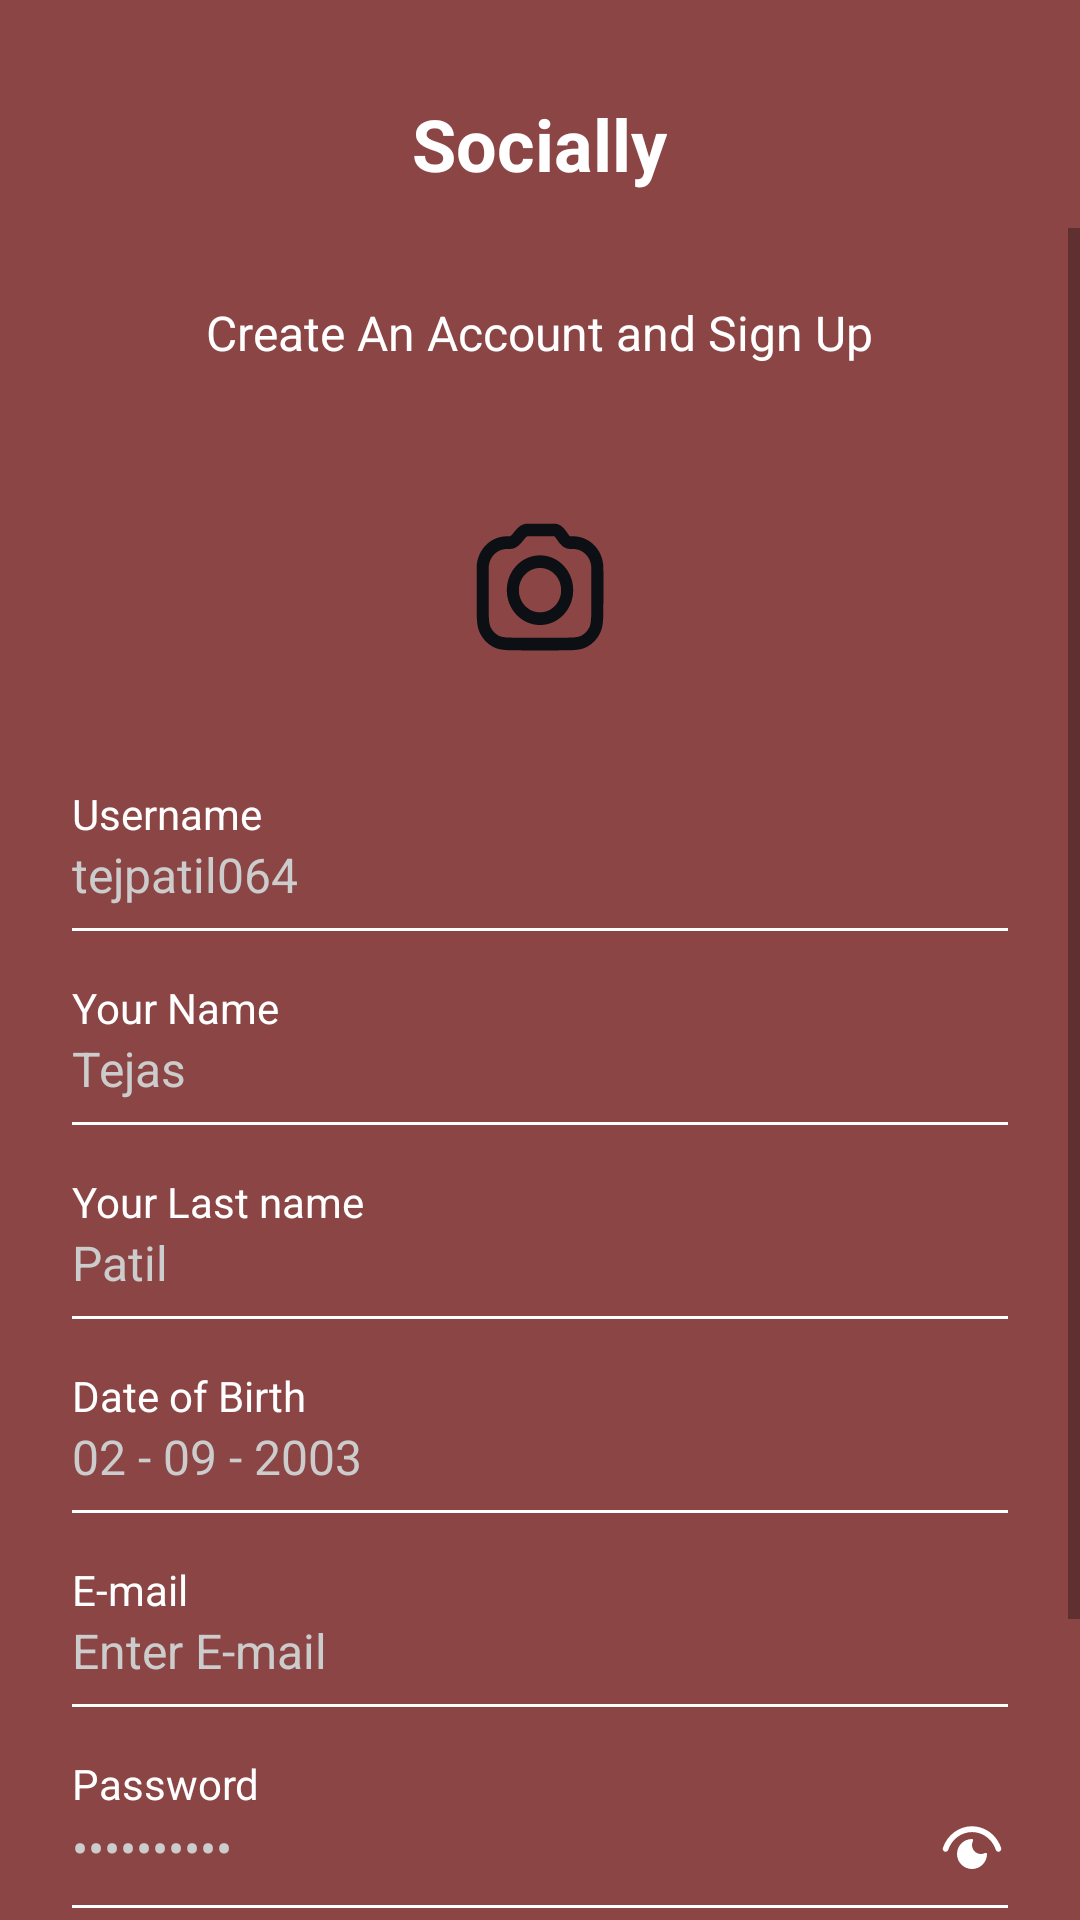

Icon bounding boxes for this 1080 × 1920 phone screenshot, format (x1, y1, x2, y2):
Upload profile picture: (476, 523, 604, 651)
